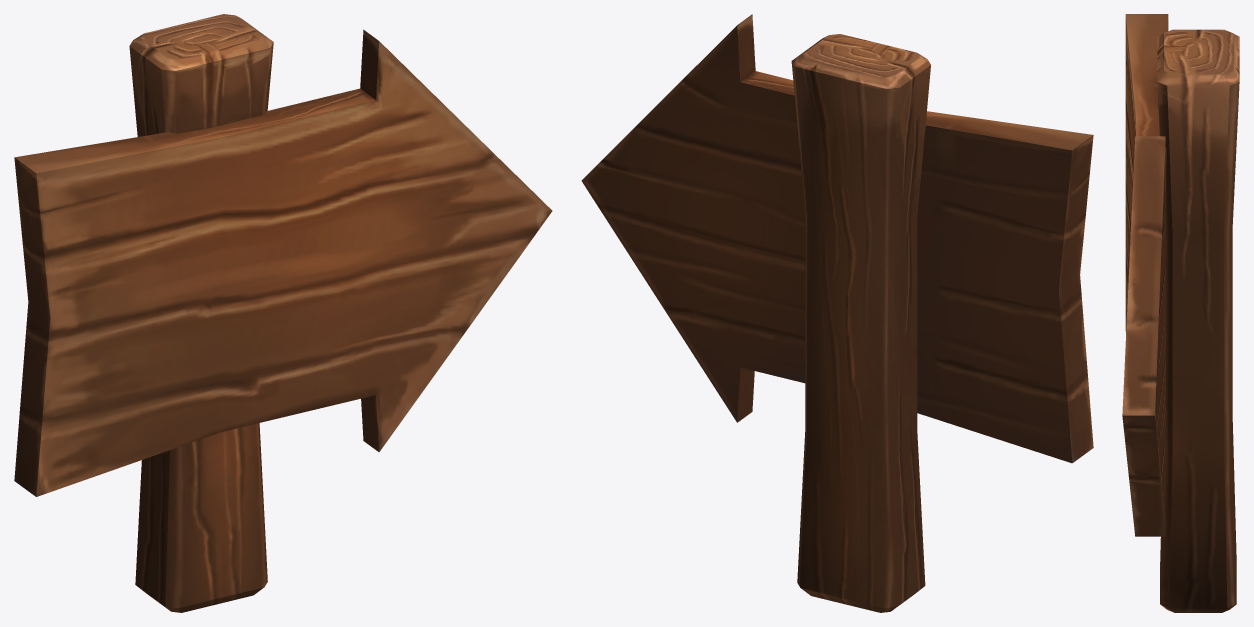
The model's file is 03_sign.FBX.
3 renders of one model, left to right at view 1: azimuth 30°, elevation 25°; view 2: azimuth 150°, elevation 25°; view 3: azimuth 270°, elevation 25°, orthographic. The views are drawn at different scales.
Visible parts, largest first — view 1: 03_sign; view 2: 03_sign; view 3: 03_sign.
Part boxes in pixels (box(x1,y1,x2,y2)): 03_sign: box(14, 14, 552, 612); 03_sign: box(581, 14, 1093, 612); 03_sign: box(1122, 14, 1239, 612).
Bounding box in the file's own units: 45.09 × 46.53 × 9.14.
